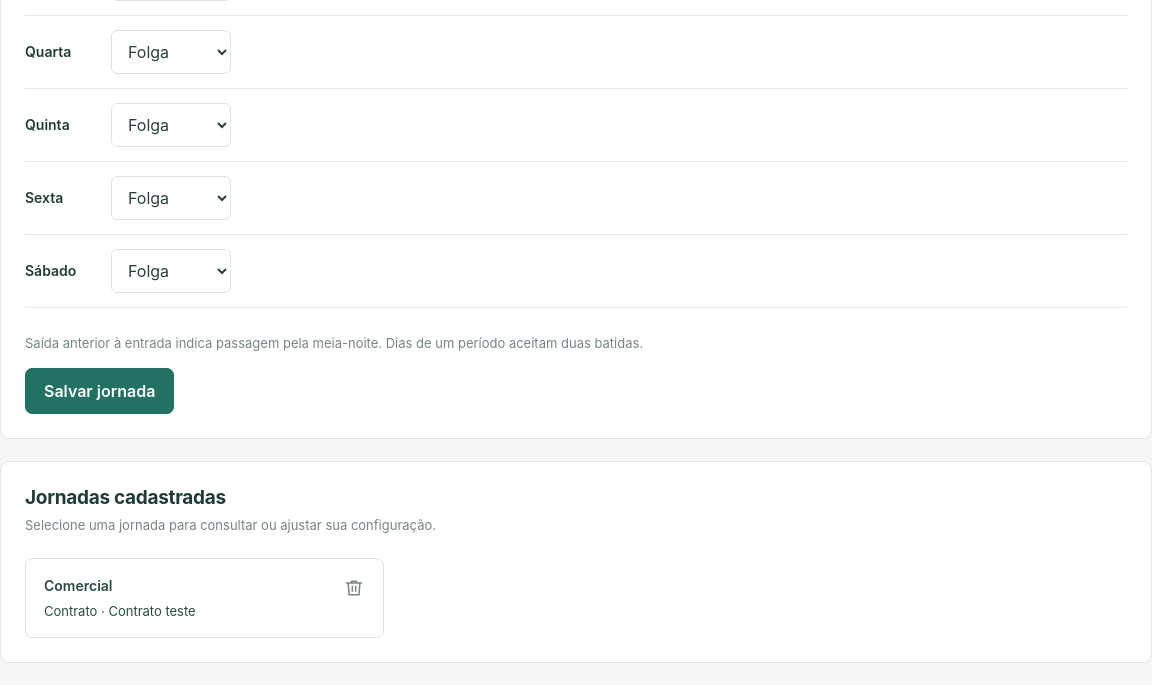
mantém a jornada e não anuncia sucesso quando a exclusão falha
(page scrolled)
Click the button named "Excluir jornada Comercial": (354, 588) left=332, top=566, right=376, bottom=610
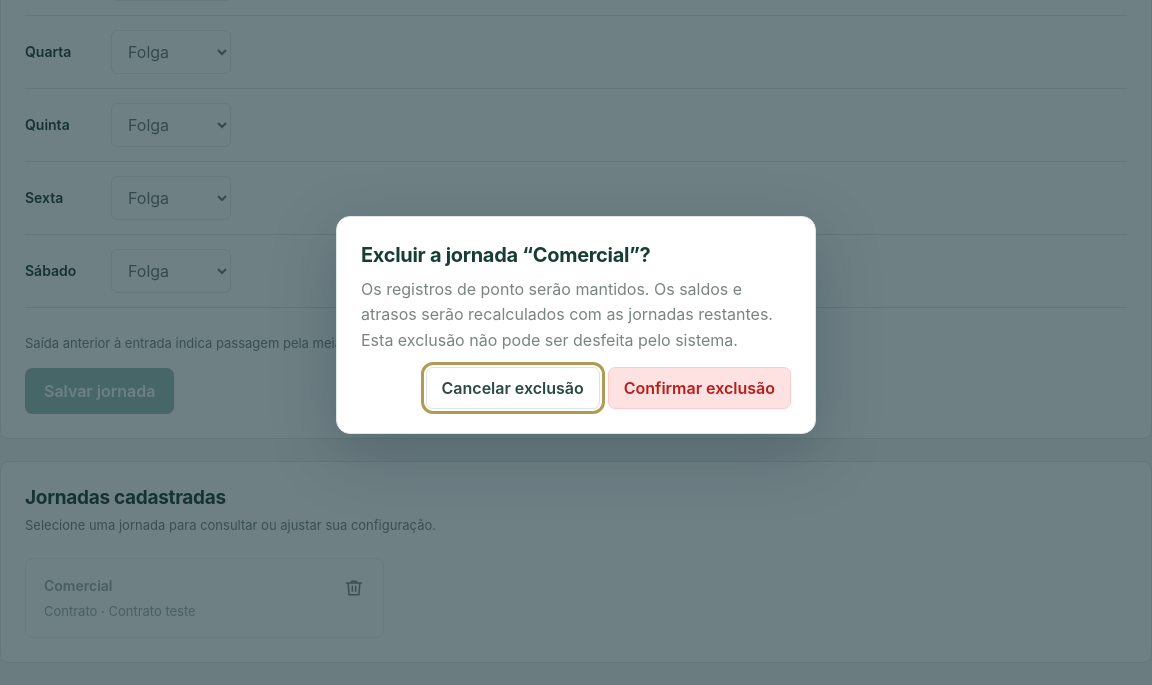
Click the button "Confirmar exclusão": (699, 388) left=608, top=367, right=791, bottom=409
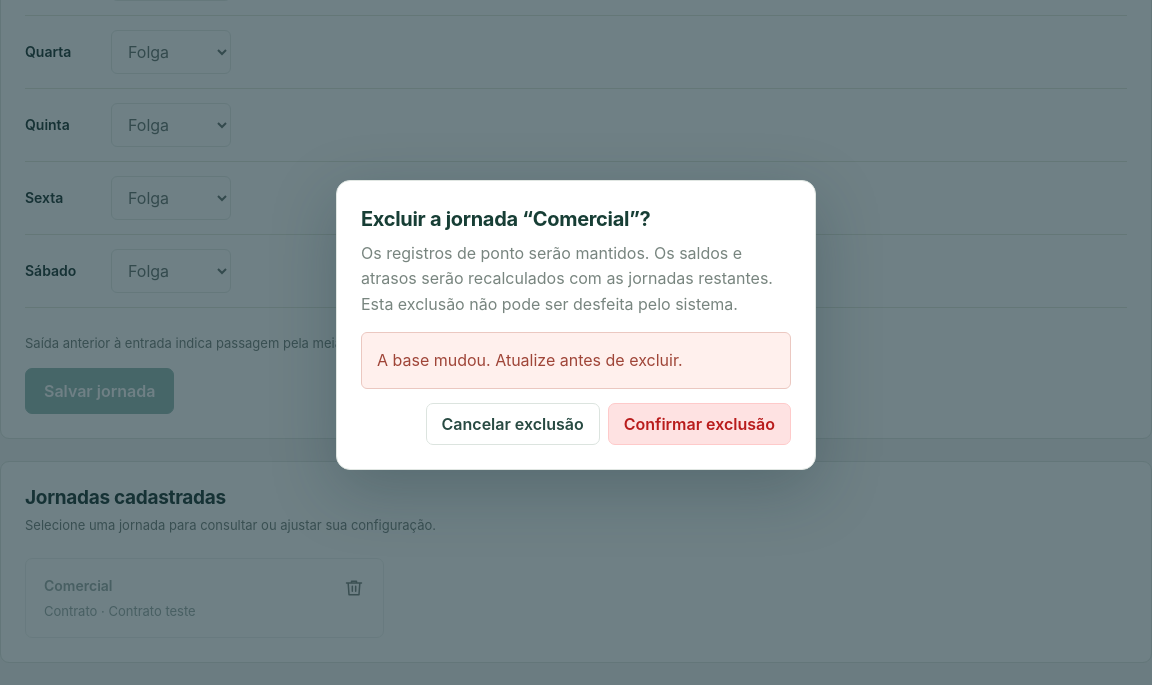
Expected: the button "Comercial Contrato · Contrato teste" is shown, left=25, top=558, right=384, bottom=638
Result: the message shows "A base mudou" at left=377, top=350, right=682, bottom=370
